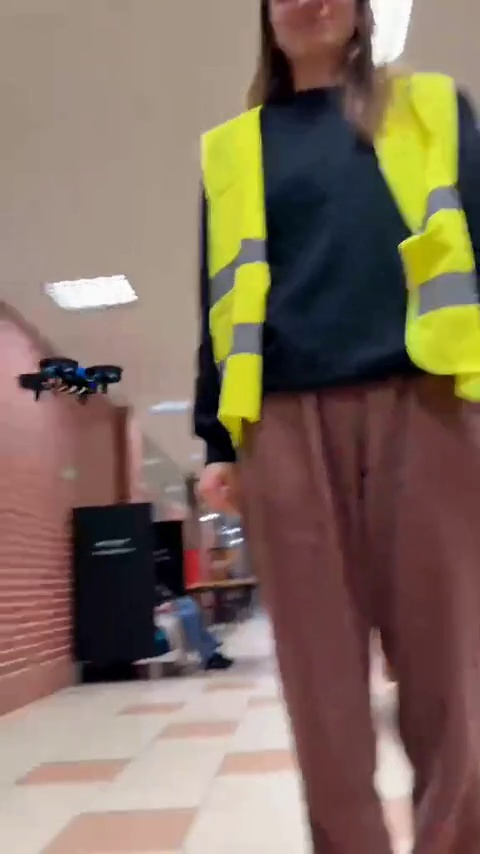drone: (14, 357, 135, 405)
vest: (198, 58, 480, 845)
